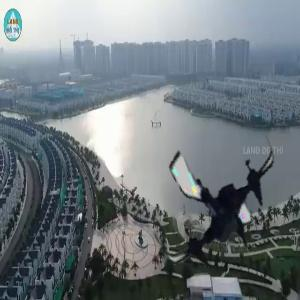drone: (147, 133, 291, 277)
